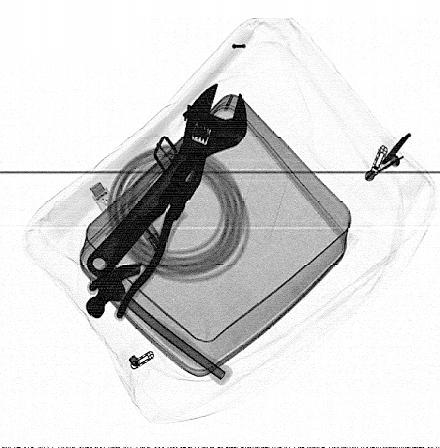Hammer: (84, 263, 234, 386)
Pliers: (87, 152, 208, 319)
Wrench: (88, 84, 248, 277)
